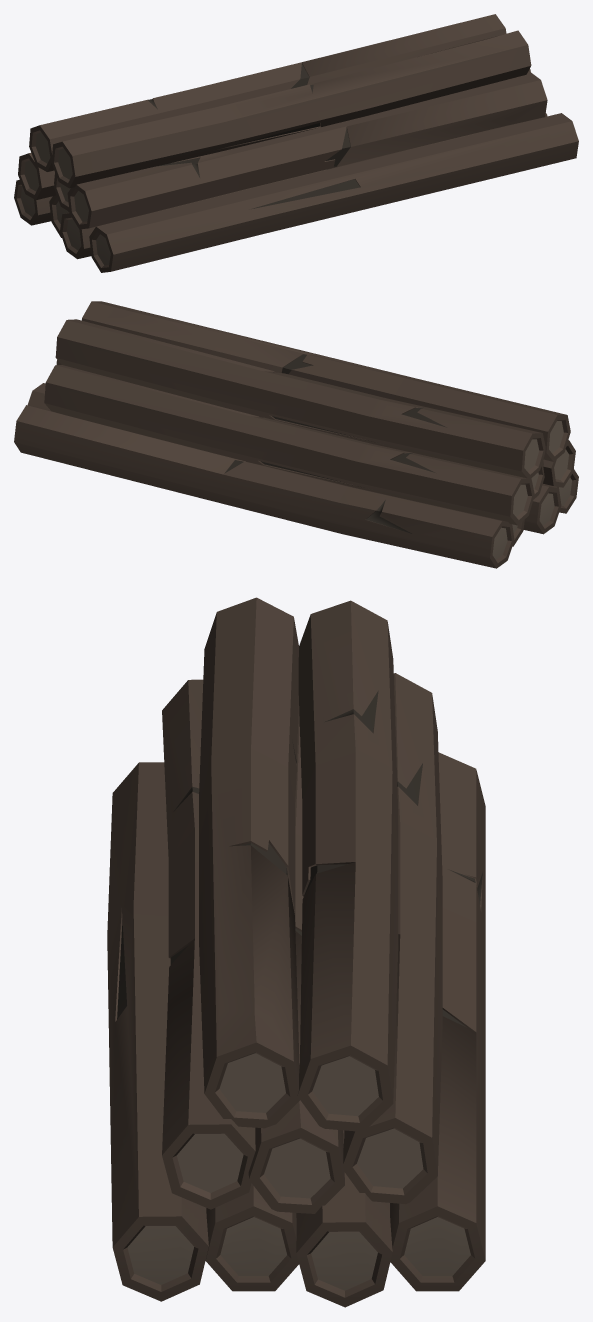
Rendered from farm_logs_2.glb.
3 renders of one model, top to bottom at view 1: azimuth 30°, elevation 25°; view 2: azimuth 150°, elevation 25°; view 3: azimuth 270°, elevation 25°, orthographic. The views are drawn at different scales.
Parts seen in each view (by area): view 1: farm_logs_2; view 2: farm_logs_2; view 3: farm_logs_2.
Part boxes in pixels (left/top/right/bottom): farm_logs_2: left=14, top=14, right=578, bottom=272; farm_logs_2: left=14, top=301, right=578, bottom=568; farm_logs_2: left=107, top=597, right=485, bottom=1307.
Size of the model in its own units: 3.18 by 0.741 by 1.07.
Materials: 1 (1 with a texture image).
